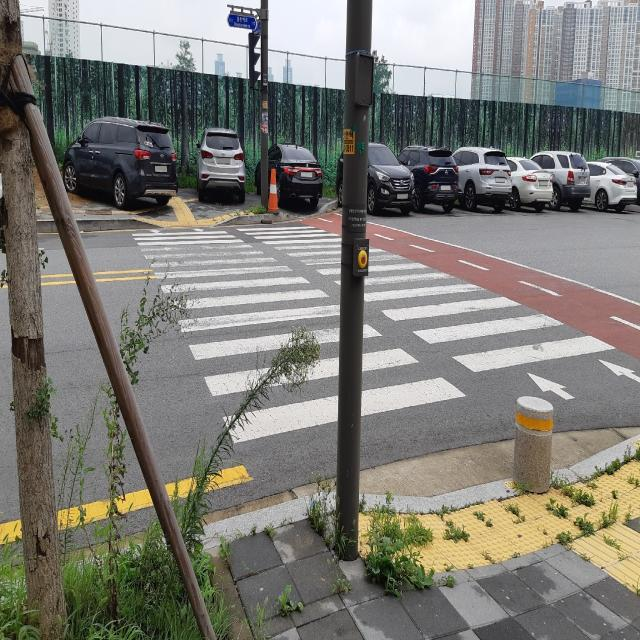횡단보도: (132, 222, 640, 444)
